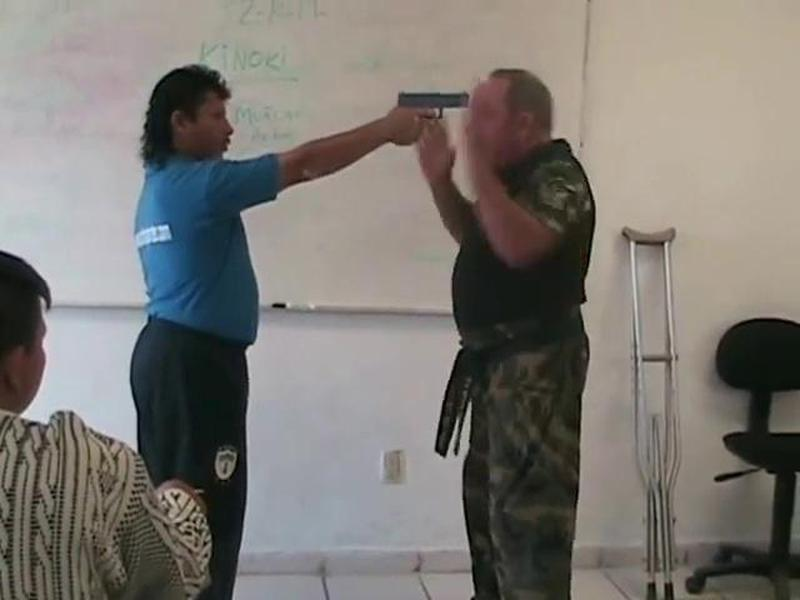Pistola: (390, 75, 499, 141)
